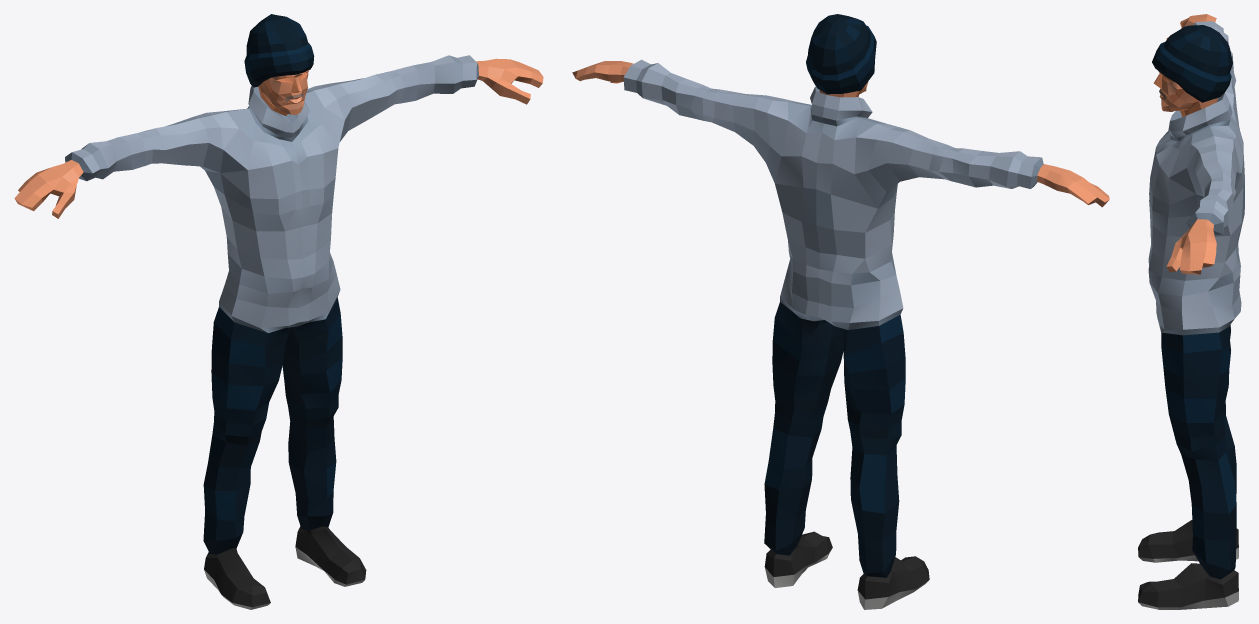
File: winter_Male_B-model.obj
3 renders of one model, left to right at view 1: azimuth 30°, elevation 25°; view 2: azimuth 150°, elevation 25°; view 3: azimuth 270°, elevation 25°, orthographic. The views are drawn at different scales.
Parts seen in each view (by area): view 1: winter_Male_B, acc_beannieHat; view 2: winter_Male_B, acc_beannieHat; view 3: winter_Male_B, acc_beannieHat.
Boxes of the visible parts, left/top/right/bottom form: winter_Male_B: left=14, top=55, right=543, bottom=609; acc_beannieHat: left=244, top=14, right=314, bottom=87; winter_Male_B: left=572, top=59, right=1109, bottom=609; acc_beannieHat: left=806, top=14, right=876, bottom=93; winter_Male_B: left=1138, top=14, right=1244, bottom=609; acc_beannieHat: left=1152, top=25, right=1232, bottom=102.
Bounding box in the file's own units: 168 × 171 × 29.98.
